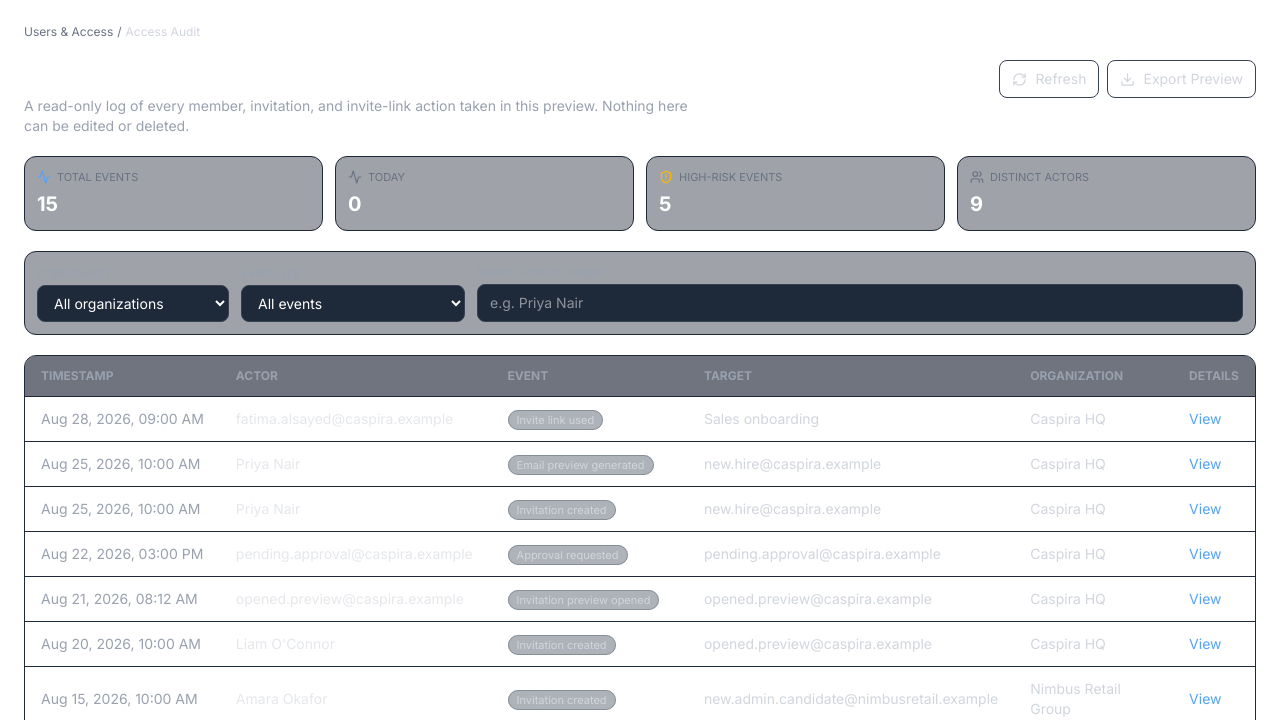
AccessAudit › filters by search text across actor and target
The width and height of the screenshot is (1280, 720).
Type "Tobias Reyes" into the field labelled "Search actor or target" at {"x": 860, "y": 302}, box [477,284,1243,322]
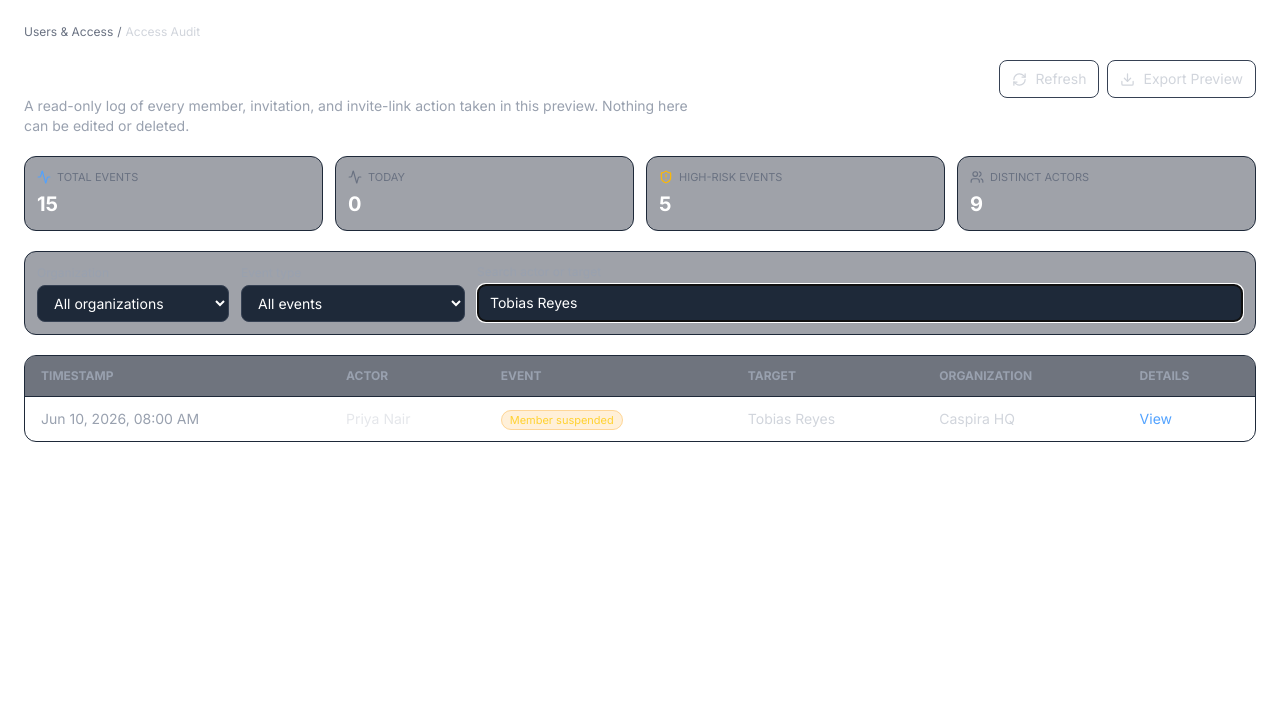
expect the text "Tobias Reyes" is shown: met, box [732,396,923,440]
expect the text "Amara Okafor" is not shown: met
